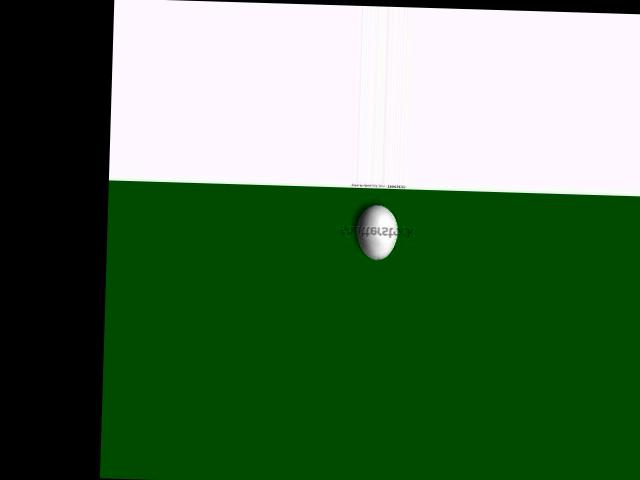egg: (356, 204, 398, 260)
